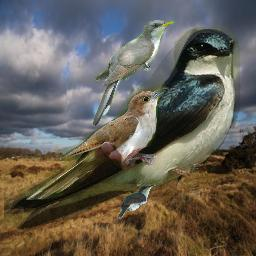Cuckoo: (25, 86, 169, 200), (92, 20, 174, 126), (117, 184, 156, 219)
Swallow: (4, 27, 240, 235)
